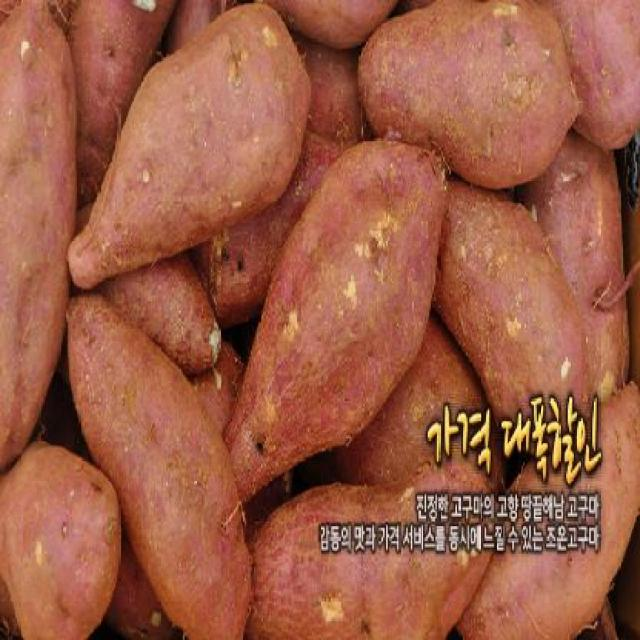Sweet Potato: (58, 286, 260, 639), (52, 13, 311, 278), (351, 0, 593, 195)
